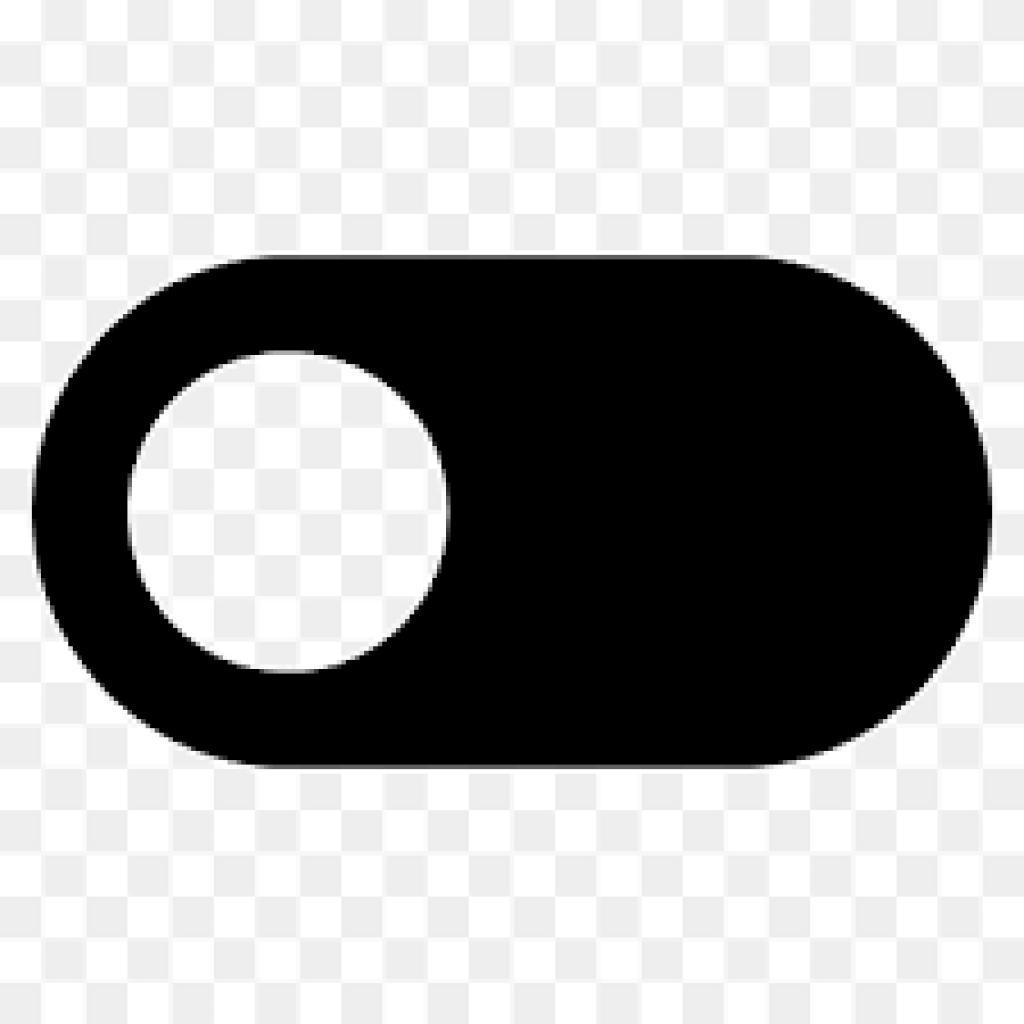switch: (22, 249, 988, 774)
